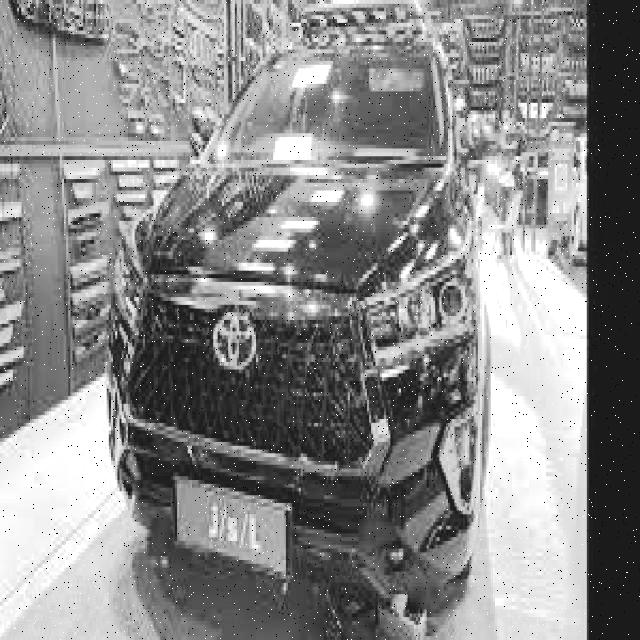Car: (107, 3, 503, 613)
